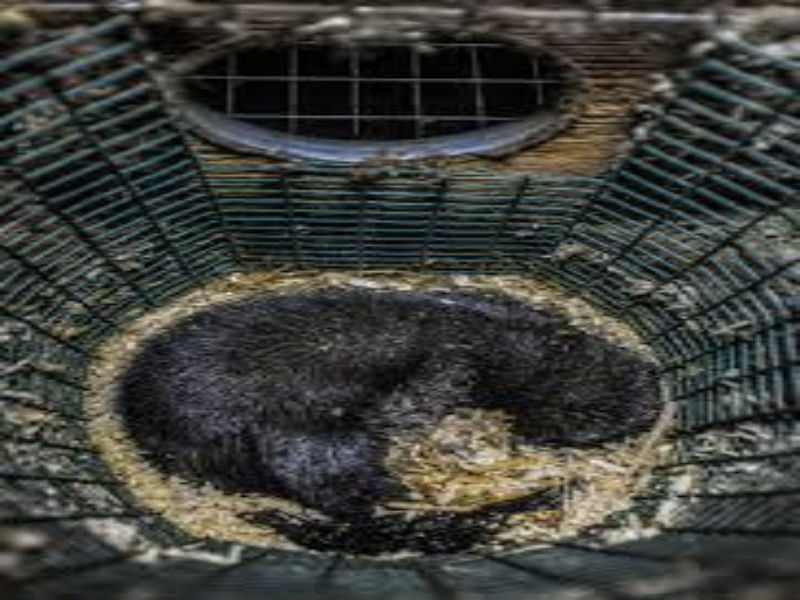minkish: (121, 282, 668, 522)
